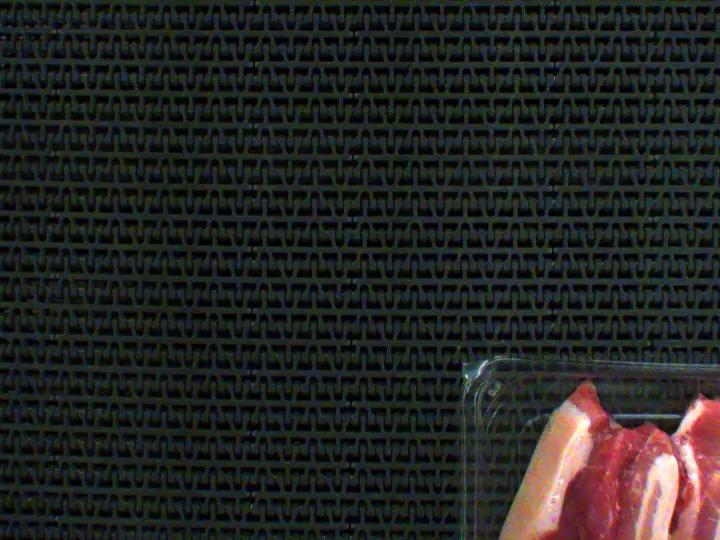twisted-meat: (493, 388, 616, 540)
